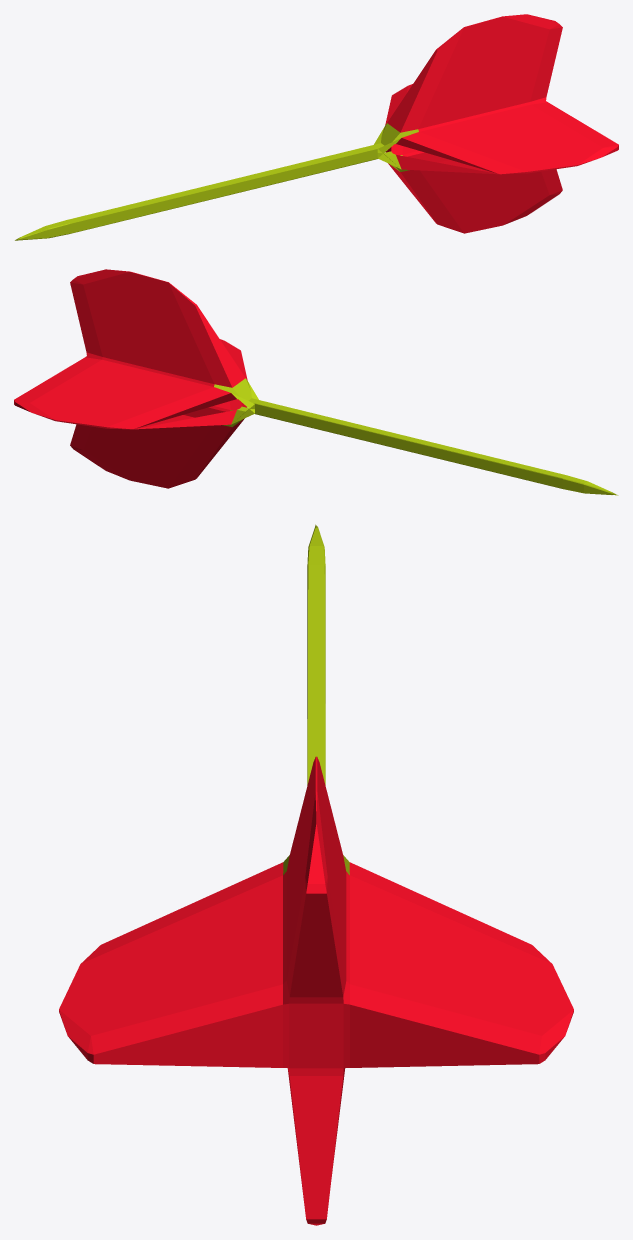
File: Darts.fbx
The picture shows the model from 3 angles, top to bottom: view 1: azimuth 30°, elevation 25°; view 2: azimuth 150°, elevation 25°; view 3: azimuth 270°, elevation 25°; orthographic projection. The views are drawn at different scales.
Parts seen in each view (by area): view 1: Cube; view 2: Cube; view 3: Cube.
Boxes of the visible parts, x1,y1,x2,y2 form: Cube: (15, 14, 618, 240); Cube: (14, 269, 618, 495); Cube: (59, 524, 573, 1225).
Bounding box in the file's own units: 170 × 418 × 152.
